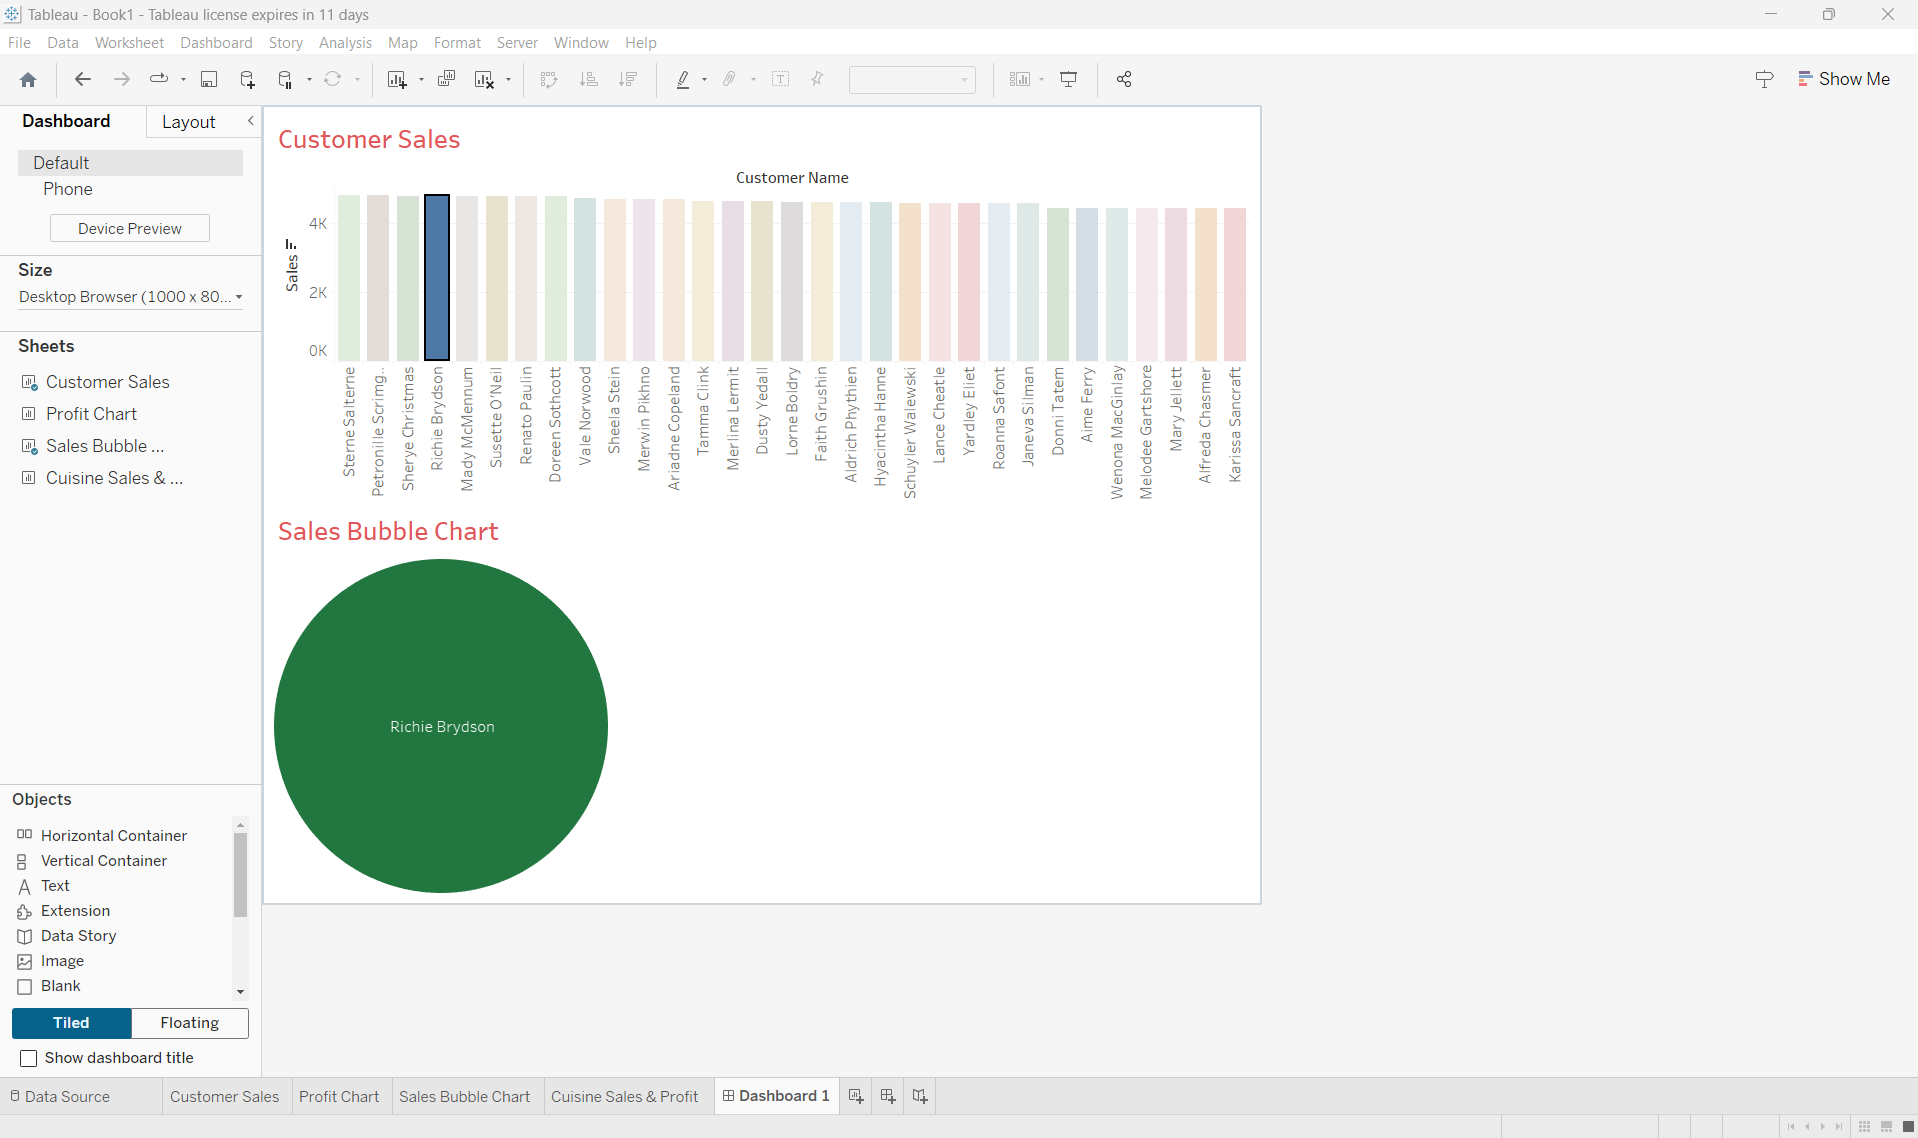

This screenshot's page, from the dashboard's own definition file:
{"tool":"tableau","page":{"name":"Sales Dashboard","canvas":[1000,800],"ordinal":0},"visuals":[{"type":"worksheet","title":"Customer Sales","mark":"Automatic","rows":["Sales"],"cols":["Customer Name"],"box":[8,8,984,392]},{"type":"worksheet","title":"Sales Bubble Chart","mark":"Circle","box":[8,400,984,392]}]}

Visuals, with their boxes on the page's 1000x800 design canvas (x1, y1, x2, y2). These are canvas units, not pixel positions in the 1918x1138 screenshot, which may show the page scaled, cropped or inside an application window:
"Customer Sales" worksheet: select_region(8, 8, 992, 400)
"Sales Bubble Chart" worksheet (Circle marks): select_region(8, 400, 992, 792)
